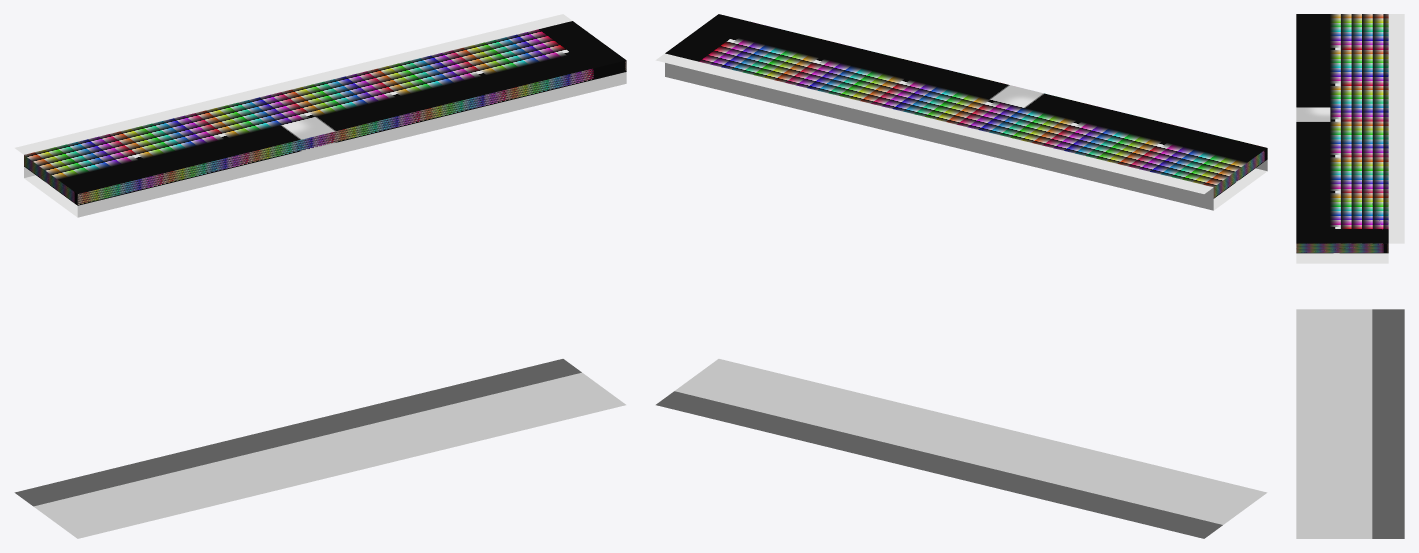
File: ground_line_1_5.fbx
3 views of the same model, side by side, from view 1: azimuth 30°, elevation 25°; view 2: azimuth 150°, elevation 25°; view 3: azimuth 270°, elevation 25° (orthographic). The views are drawn at different scales.
Parts seen in each view (by area): view 1: shadowsOnly, ground_line_1_5, ceiling_line_1_5; view 2: ground_line_1_5, shadowsOnly, ceiling_line_1_5; view 3: ground_line_1_5, shadowsOnly, ceiling_line_1_5.
Boxes of the visible parts, box(x1,y1,x2,y2) form: shadowsOnly: box(24, 21, 626, 205); ground_line_1_5: box(14, 359, 625, 538); ceiling_line_1_5: box(15, 14, 626, 217); ground_line_1_5: box(656, 359, 1267, 538); shadowsOnly: box(665, 14, 1267, 198); ceiling_line_1_5: box(655, 53, 1267, 210); ground_line_1_5: box(1296, 309, 1404, 538); shadowsOnly: box(1296, 14, 1388, 253); ceiling_line_1_5: box(1296, 14, 1404, 263).
Size of what is drawn, in the model's own units: 500 by 300 by 100.
